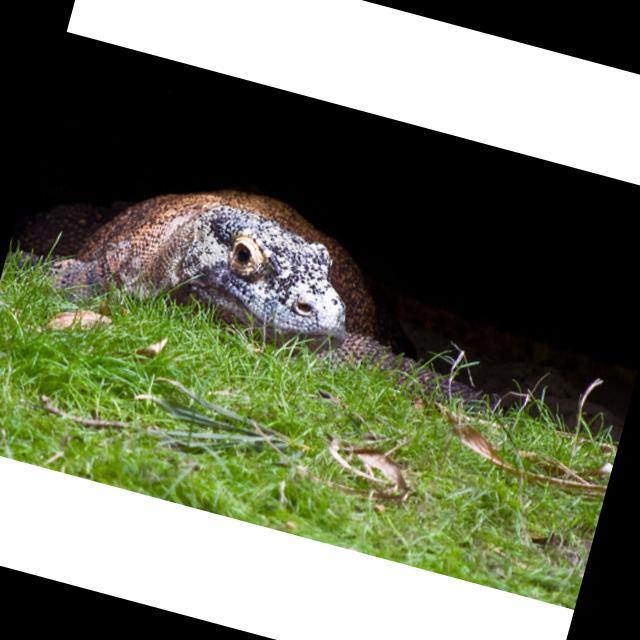KomodoDragon: (0, 132, 539, 418)
